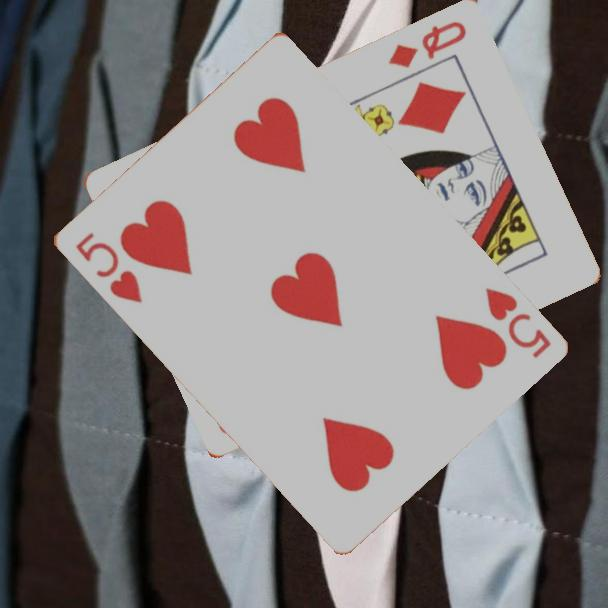d12: (384, 18, 469, 72)
h05: (481, 283, 554, 362), (72, 228, 145, 306)
